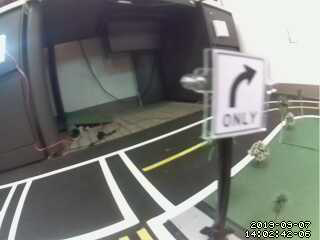Right_only_sign: (211, 42, 272, 136)
